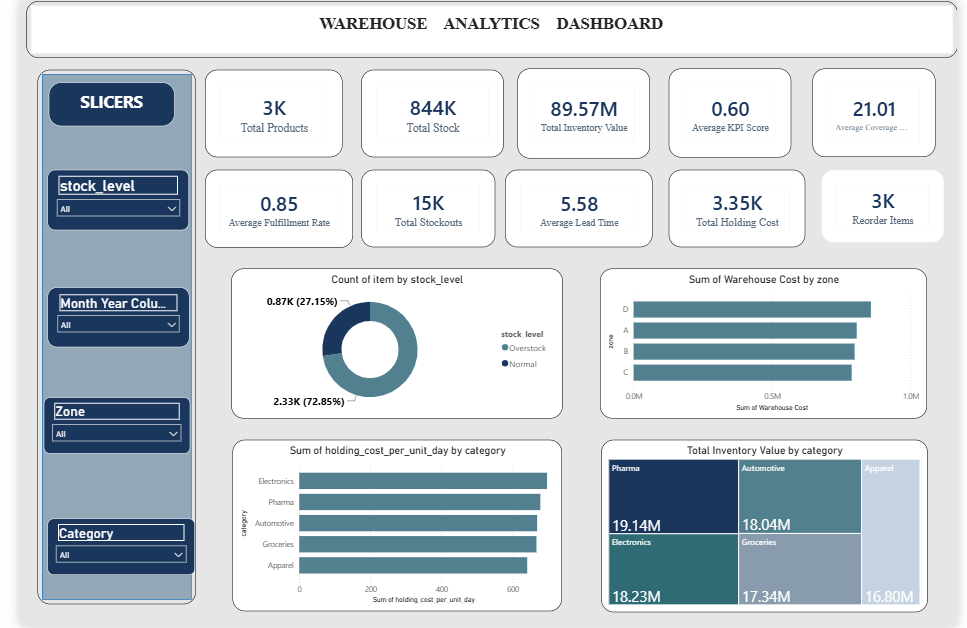

The page's visual inventory and layout, read from the dashboard file:
{"tool":"powerbi","page":{"name":"Page 1","canvas":[1500,1000],"ordinal":0},"visuals":[{"type":"shape","box":[28.3,110,253.3,855],"z":0},{"type":"shape","box":[10,0,1490,91.4],"z":1000},{"type":"textbox","box":[28.6,15.7,1451.4,51.4],"z":2000},{"type":"textbox","box":[45,130,201.7,70],"z":3000},{"type":"slicer","fields":{"Values":["logistics_dataset.category"]},"box":[43.3,828.3,236,90],"z":4000},{"type":"slicer","fields":{"Values":["logistics_dataset.zone"]},"box":[38.3,633.3,234,90],"z":5000},{"type":"slicer","fields":{"Values":["logistics_dataset.Month Year Column"]},"box":[44.3,457.1,227.1,95.7],"z":6000},{"type":"cardVisual","fields":{"Data":["Measures (2).Total Products"]},"box":[296,110,220,140],"z":7000},{"type":"cardVisual","fields":{"Data":["Measures (2).Total Stock"]},"box":[546,110,228,140],"z":8000},{"type":"cardVisual","fields":{"Data":["Measures (2).Total Inventory Value"]},"box":[796,108,212,144],"z":9000},{"type":"cardVisual","fields":{"Data":["Measures (2).Average KPI Score"]},"box":[1038,108,196,142],"z":10000},{"type":"cardVisual","fields":{"Data":["Measures (2).Average Fulfillment Rate"]},"box":[295.6,270,236.7,124.4],"z":11000},{"type":"cardVisual","fields":{"Data":["Measures (2).Total Stockouts"]},"box":[546,270,214,124],"z":12000},{"type":"cardVisual","fields":{"Data":["Measures (2).Average Lead Time"]},"box":[776,270,236,124],"z":13000},{"type":"cardVisual","fields":{"Data":["Measures (2).Total Holding Cost"]},"box":[1038,270,218,124],"z":14000},{"type":"clusteredBarChart","fields":{"Category":["logistics_dataset.zone"],"Y":["Sum(logistics_dataset.Warehouse Cost)"]},"box":[928.6,427.1,522.9,240],"z":15000},{"type":"donutChart","fields":{"Y":["Count(logistics_dataset.item_id)"],"Category":["logistics_dataset.stock_level"]},"box":[337.1,427.1,530,240],"z":16000},{"type":"treemap","fields":{"Group":["logistics_dataset.category"],"Values":["Measures (2).Total Inventory Value"]},"box":[930,702.9,522,276],"z":17000},{"type":"slicer","fields":{"Values":["logistics_dataset.stock_level"]},"box":[43.3,270,226.7,96.7],"z":18000},{"type":"cardVisual","fields":{"Data":["Measures (2).Average Coverage Days"]},"box":[1268.3,108.3,196.7,141.7],"z":19000},{"type":"cardVisual","fields":{"Data":["Measures (2).Reorder Items"]},"box":[1281.7,270,196.7,116.7],"z":20000},{"type":"clusteredBarChart","fields":{"Category":["logistics_dataset.category"],"Y":["Sum(logistics_dataset.holding_cost_per_unit_day)"]},"box":[340,702.9,527.1,274.3],"z":21000}]}

Visuals, with their boxes in screenshot pixels (x1, y1, x2, y2), scaled from the page's 1500x1000 canvas onto the 967x628 screenshot:
shape: 18, 69, 182, 606
shape: 6, 0, 966, 57
textbox: 18, 10, 954, 42
textbox: 29, 82, 159, 126
slicer - logistics_dataset.category: 28, 520, 180, 577
slicer - logistics_dataset.zone: 25, 398, 176, 454
slicer - logistics_dataset.Month Year Column: 29, 287, 175, 347
cardVisual - Measures (2).Total Products: 191, 69, 333, 157
cardVisual - Measures (2).Total Stock: 352, 69, 499, 157
cardVisual - Measures (2).Total Inventory Value: 513, 68, 650, 158
cardVisual - Measures (2).Average KPI Score: 669, 68, 796, 157
cardVisual - Measures (2).Average Fulfillment Rate: 191, 170, 343, 248
cardVisual - Measures (2).Total Stockouts: 352, 170, 490, 247
cardVisual - Measures (2).Average Lead Time: 500, 170, 652, 247
cardVisual - Measures (2).Total Holding Cost: 669, 170, 810, 247
clusteredBarChart - logistics_dataset.zone x Sum(logistics_dataset.Warehouse Cost): 599, 268, 936, 419
donutChart - Count(logistics_dataset.item_id) x logistics_dataset.stock_level: 217, 268, 559, 419
treemap - logistics_dataset.category x Measures (2).Total Inventory Value: 600, 441, 936, 615
slicer - logistics_dataset.stock_level: 28, 170, 174, 230
cardVisual - Measures (2).Average Coverage Days: 818, 68, 944, 157
cardVisual - Measures (2).Reorder Items: 826, 170, 953, 243
clusteredBarChart - logistics_dataset.category x Sum(logistics_dataset.holding_cost_per_unit_day): 219, 441, 559, 614
